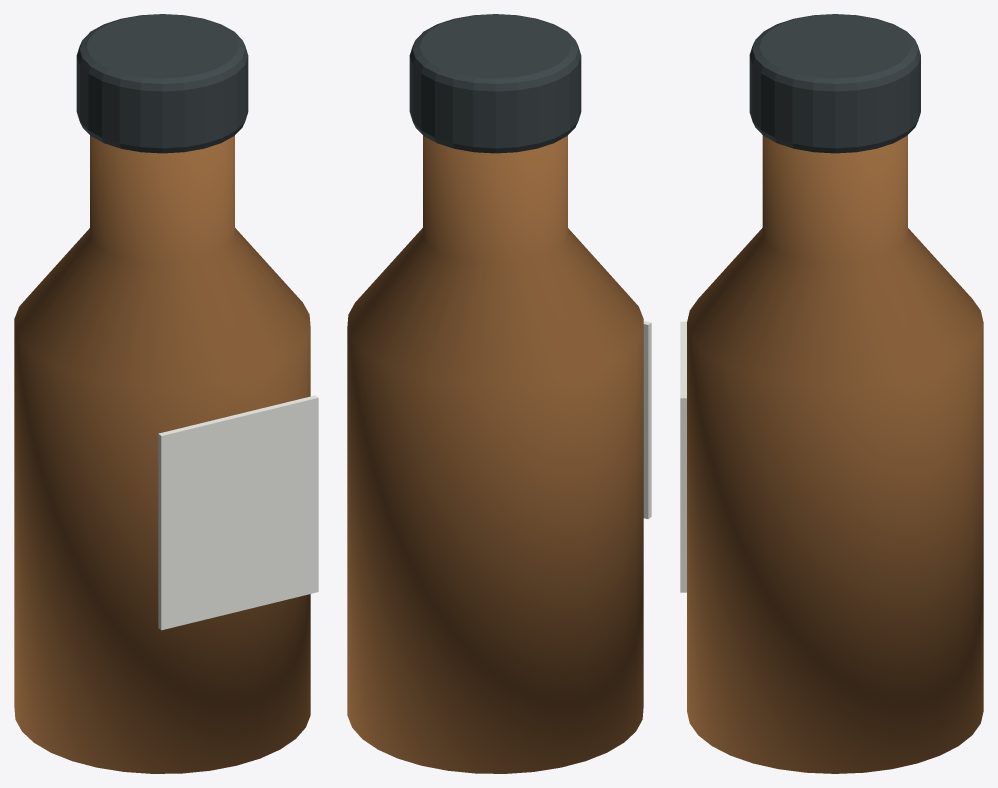
File: ReagentBottle.fbx
3 renders of one model, left to right at view 1: azimuth 30°, elevation 25°; view 2: azimuth 150°, elevation 25°; view 3: azimuth 270°, elevation 25°, orthographic.
Parts seen in each view (by area): view 1: AmberBottle, BlankSafetyLabel, SealedCap; view 2: AmberBottle, SealedCap, BlankSafetyLabel; view 3: AmberBottle, SealedCap, BlankSafetyLabel.
Part boxes in pixels (bbox=[...]): AmberBottle: bbox=[14, 135, 310, 773]; BlankSafetyLabel: bbox=[158, 395, 318, 630]; SealedCap: bbox=[76, 14, 248, 153]; AmberBottle: bbox=[347, 135, 643, 773]; SealedCap: bbox=[409, 14, 581, 153]; BlankSafetyLabel: bbox=[643, 321, 651, 519]; AmberBottle: bbox=[687, 135, 983, 773]; SealedCap: bbox=[749, 14, 920, 153]; BlankSafetyLabel: bbox=[680, 321, 686, 592].
Size of the model in its own units: 9 by 22.25 by 9.2.
